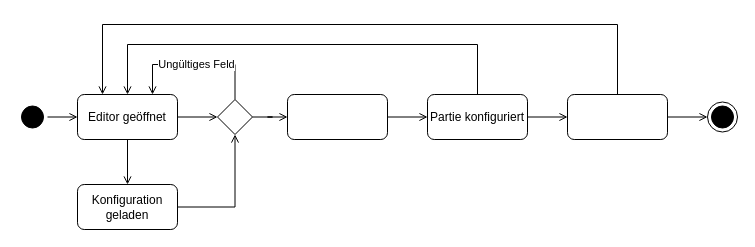
Image size: 755x247. Some labels were removed from this diagram. Here are the shapes that lost their labels. From the top down, the centre of each, then its label:
the point at 337,117: Feld erstellt
the point at 617,117: Charakter geändert
